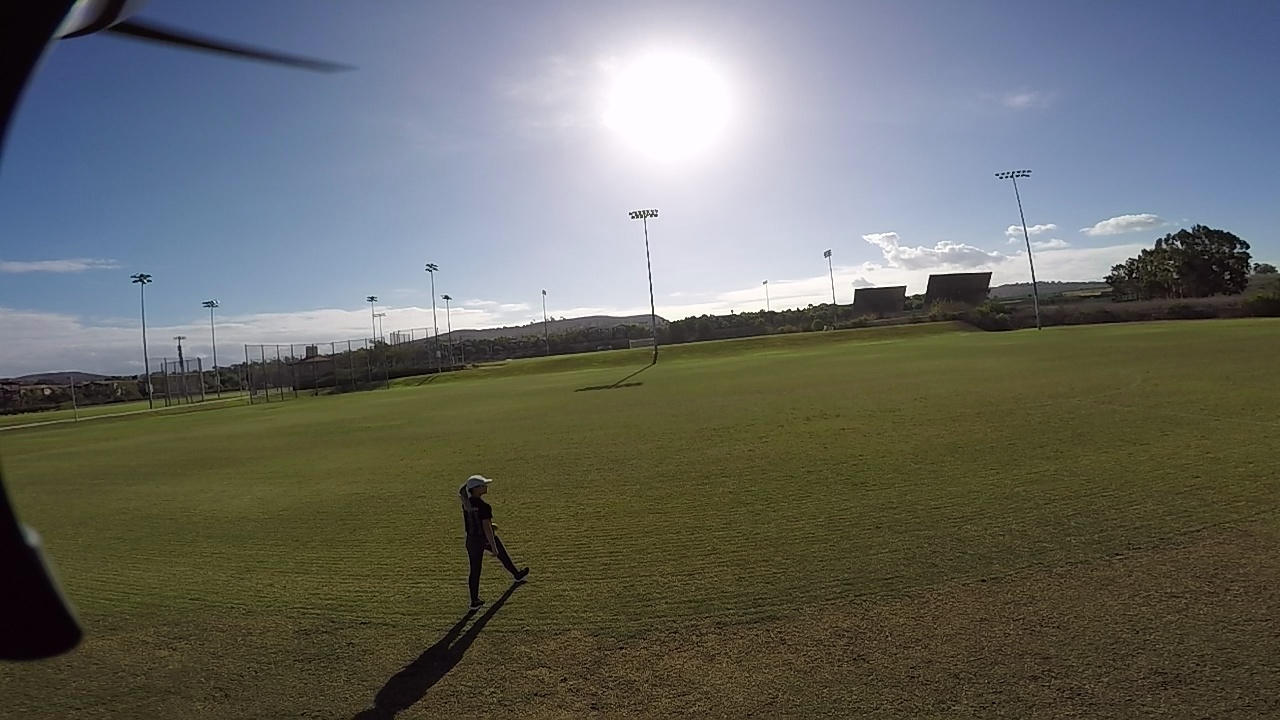person: (452, 474, 520, 600)
